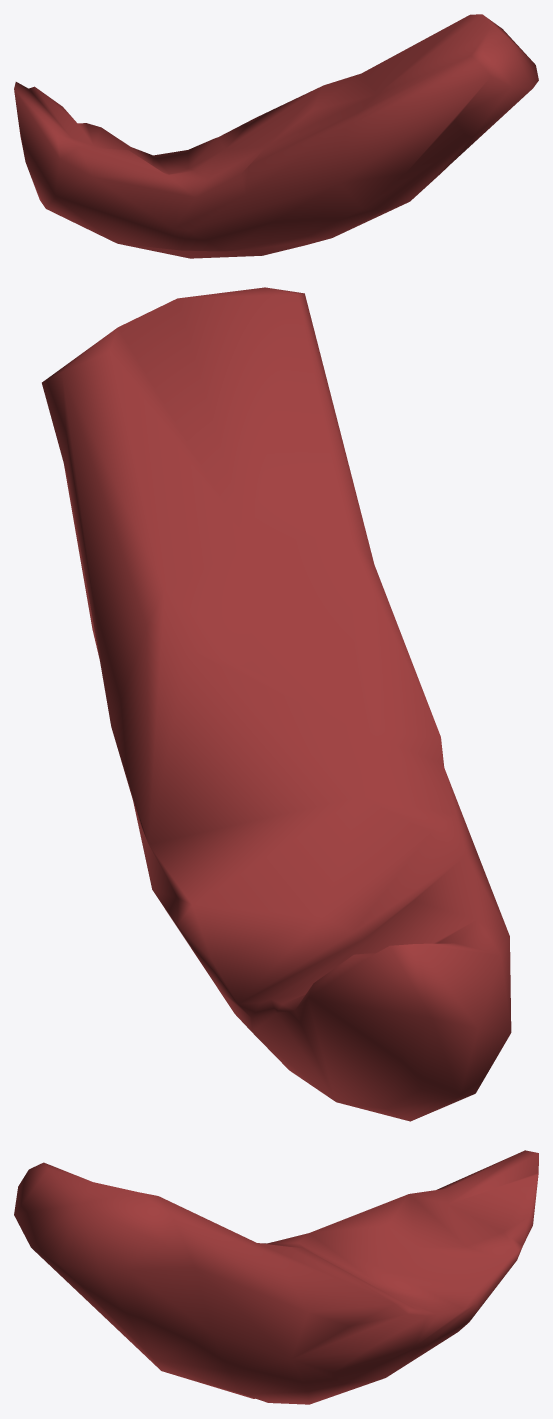
Rendered from superior-head-of-lateral-pterygoid-muscle-r.glb.
3 views of the same model, one above another, from view 1: azimuth 30°, elevation 25°; view 2: azimuth 150°, elevation 25°; view 3: azimuth 270°, elevation 25° (orthographic). The views are drawn at different scales.
Visible parts, largest first — view 1: Superior head of lateral pterygoid muscle.r; view 2: Superior head of lateral pterygoid muscle.r; view 3: Superior head of lateral pterygoid muscle.r.
Part boxes in pixels (box(x1,y1,x2,y2)): Superior head of lateral pterygoid muscle.r: box(14, 14, 538, 258); Superior head of lateral pterygoid muscle.r: box(42, 287, 511, 1121); Superior head of lateral pterygoid muscle.r: box(14, 1150, 538, 1404).
Size of the model in its own units: 0.0212 by 0.0147 by 0.0224.
